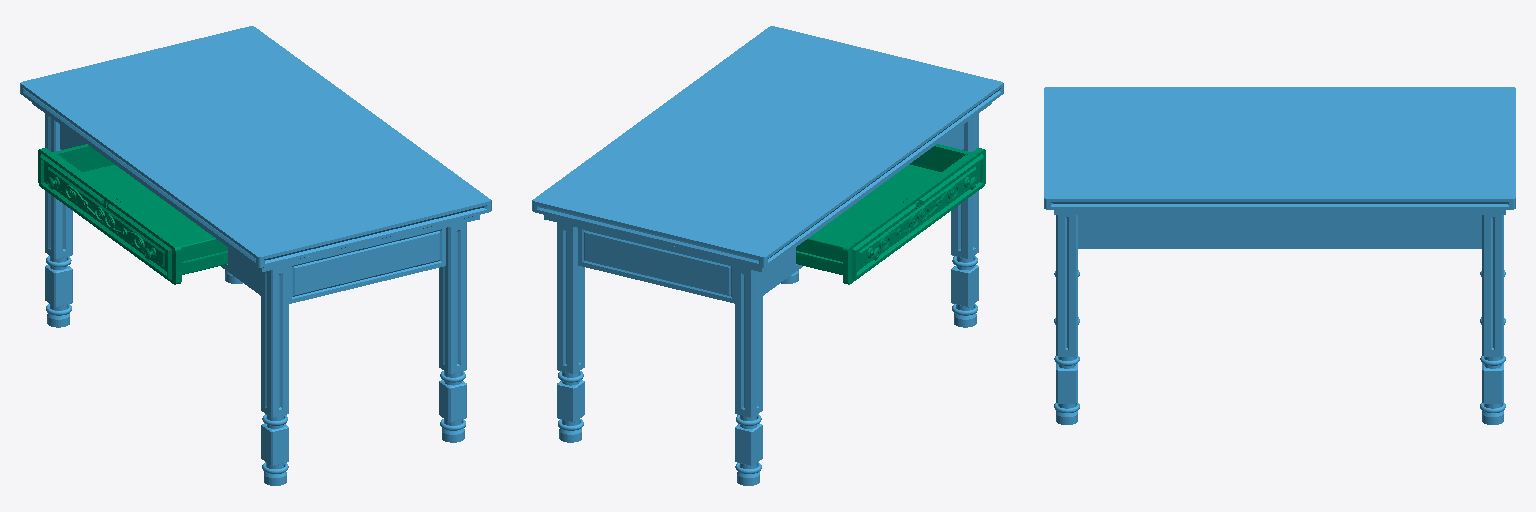
URDF robot description (partnet_7b5b7bfa8580e913e2580b23e60e4674):
<?xml version="1.0" ?>
<robot name="partnet_7b5b7bfa8580e913e2580b23e60e4674">
	<link name="base"/>
	<link name="link_0">
		<visual name="board-33">
			<origin xyz="0 0 0"/>
			<geometry>
				<mesh filename="textured_objs/original-48.obj"/>
			</geometry>
		</visual>
		<visual name="bar-36">
			<origin xyz="0 0 0"/>
			<geometry>
				<mesh filename="textured_objs/original-50.obj"/>
			</geometry>
		</visual>
		<visual name="bar-36">
			<origin xyz="0 0 0"/>
			<geometry>
				<mesh filename="textured_objs/original-57.obj"/>
			</geometry>
		</visual>
		<visual name="bar-37">
			<origin xyz="0 0 0"/>
			<geometry>
				<mesh filename="textured_objs/original-53.obj"/>
			</geometry>
		</visual>
		<visual name="bar-37">
			<origin xyz="0 0 0"/>
			<geometry>
				<mesh filename="textured_objs/original-54.obj"/>
			</geometry>
		</visual>
		<visual name="bar-38">
			<origin xyz="0 0 0"/>
			<geometry>
				<mesh filename="textured_objs/original-51.obj"/>
			</geometry>
		</visual>
		<visual name="bar-38">
			<origin xyz="0 0 0"/>
			<geometry>
				<mesh filename="textured_objs/original-55.obj"/>
			</geometry>
		</visual>
		<visual name="bar-39">
			<origin xyz="0 0 0"/>
			<geometry>
				<mesh filename="textured_objs/original-52.obj"/>
			</geometry>
		</visual>
		<visual name="bar-39">
			<origin xyz="0 0 0"/>
			<geometry>
				<mesh filename="textured_objs/original-56.obj"/>
			</geometry>
		</visual>
		<visual name="leg-8">
			<origin xyz="0 0 0"/>
			<geometry>
				<mesh filename="textured_objs/original-32.obj"/>
			</geometry>
		</visual>
		<visual name="leg-8">
			<origin xyz="0 0 0"/>
			<geometry>
				<mesh filename="textured_objs/original-33.obj"/>
			</geometry>
		</visual>
		<visual name="leg-8">
			<origin xyz="0 0 0"/>
			<geometry>
				<mesh filename="textured_objs/original-34.obj"/>
			</geometry>
		</visual>
		<visual name="leg-8">
			<origin xyz="0 0 0"/>
			<geometry>
				<mesh filename="textured_objs/original-31.obj"/>
			</geometry>
		</visual>
		<visual name="leg-9">
			<origin xyz="0 0 0"/>
			<geometry>
				<mesh filename="textured_objs/original-22.obj"/>
			</geometry>
		</visual>
		<visual name="leg-9">
			<origin xyz="0 0 0"/>
			<geometry>
				<mesh filename="textured_objs/original-23.obj"/>
			</geometry>
		</visual>
		<visual name="leg-9">
			<origin xyz="0 0 0"/>
			<geometry>
				<mesh filename="textured_objs/original-24.obj"/>
			</geometry>
		</visual>
		<visual name="leg-9">
			<origin xyz="0 0 0"/>
			<geometry>
				<mesh filename="textured_objs/original-21.obj"/>
			</geometry>
		</visual>
		<visual name="leg-10">
			<origin xyz="0 0 0"/>
			<geometry>
				<mesh filename="textured_objs/original-27.obj"/>
			</geometry>
		</visual>
		<visual name="leg-10">
			<origin xyz="0 0 0"/>
			<geometry>
				<mesh filename="textured_objs/original-29.obj"/>
			</geometry>
		</visual>
		<visual name="leg-10">
			<origin xyz="0 0 0"/>
			<geometry>
				<mesh filename="textured_objs/original-28.obj"/>
			</geometry>
		</visual>
		<visual name="leg-10">
			<origin xyz="0 0 0"/>
			<geometry>
				<mesh filename="textured_objs/original-26.obj"/>
			</geometry>
		</visual>
		<visual name="leg-11">
			<origin xyz="0 0 0"/>
			<geometry>
				<mesh filename="textured_objs/original-37.obj"/>
			</geometry>
		</visual>
		<visual name="leg-11">
			<origin xyz="0 0 0"/>
			<geometry>
				<mesh filename="textured_objs/original-38.obj"/>
			</geometry>
		</visual>
		<visual name="leg-11">
			<origin xyz="0 0 0"/>
			<geometry>
				<mesh filename="textured_objs/original-39.obj"/>
			</geometry>
		</visual>
		<visual name="leg-11">
			<origin xyz="0 0 0"/>
			<geometry>
				<mesh filename="textured_objs/original-36.obj"/>
			</geometry>
		</visual>
		<visual name="back_panel-16">
			<origin xyz="0 0 0"/>
			<geometry>
				<mesh filename="textured_objs/original-44.obj"/>
			</geometry>
		</visual>
		<visual name="vertical_side_panel-17">
			<origin xyz="0 0 0"/>
			<geometry>
				<mesh filename="textured_objs/original-45.obj"/>
			</geometry>
		</visual>
		<visual name="vertical_side_panel-18">
			<origin xyz="0 0 0"/>
			<geometry>
				<mesh filename="textured_objs/original-46.obj"/>
			</geometry>
		</visual>
		<visual name="vertical_front_panel-19">
			<origin xyz="0 0 0"/>
			<geometry>
				<mesh filename="textured_objs/original-43.obj"/>
			</geometry>
		</visual>
		<visual name="tabletop_connector-34">
			<origin xyz="0 0 0"/>
			<geometry>
				<mesh filename="textured_objs/original-47.obj"/>
			</geometry>
		</visual>
		<visual name="drawer_rails-22">
			<origin xyz="0 0 0"/>
			<geometry>
				<mesh filename="textured_objs/original-41.obj"/>
			</geometry>
		</visual>
		<visual name="drawer_rails-23">
			<origin xyz="0 0 0"/>
			<geometry>
				<mesh filename="textured_objs/original-42.obj"/>
			</geometry>
		</visual>
		<collision>
			<origin xyz="0 0 0"/>
			<geometry>
				<mesh filename="textured_objs/original-48.obj"/>
			</geometry>
		</collision>
		<collision>
			<origin xyz="0 0 0"/>
			<geometry>
				<mesh filename="textured_objs/original-50.obj"/>
			</geometry>
		</collision>
		<collision>
			<origin xyz="0 0 0"/>
			<geometry>
				<mesh filename="textured_objs/original-57.obj"/>
			</geometry>
		</collision>
		<collision>
			<origin xyz="0 0 0"/>
			<geometry>
				<mesh filename="textured_objs/original-53.obj"/>
			</geometry>
		</collision>
		<collision>
			<origin xyz="0 0 0"/>
			<geometry>
				<mesh filename="textured_objs/original-54.obj"/>
			</geometry>
		</collision>
		<collision>
			<origin xyz="0 0 0"/>
			<geometry>
				<mesh filename="textured_objs/original-51.obj"/>
			</geometry>
		</collision>
		<collision>
			<origin xyz="0 0 0"/>
			<geometry>
				<mesh filename="textured_objs/original-55.obj"/>
			</geometry>
		</collision>
		<collision>
			<origin xyz="0 0 0"/>
			<geometry>
				<mesh filename="textured_objs/original-52.obj"/>
			</geometry>
		</collision>
		<collision>
			<origin xyz="0 0 0"/>
			<geometry>
				<mesh filename="textured_objs/original-56.obj"/>
			</geometry>
		</collision>
		<collision>
			<origin xyz="0 0 0"/>
			<geometry>
				<mesh filename="textured_objs/original-32.obj"/>
			</geometry>
		</collision>
		<collision>
			<origin xyz="0 0 0"/>
			<geometry>
				<mesh filename="textured_objs/original-33.obj"/>
			</geometry>
		</collision>
		<collision>
			<origin xyz="0 0 0"/>
			<geometry>
				<mesh filename="textured_objs/original-34.obj"/>
			</geometry>
		</collision>
		<collision>
			<origin xyz="0 0 0"/>
			<geometry>
				<mesh filename="textured_objs/original-31.obj"/>
			</geometry>
		</collision>
		<collision>
			<origin xyz="0 0 0"/>
			<geometry>
				<mesh filename="textured_objs/original-22.obj"/>
			</geometry>
		</collision>
		<collision>
			<origin xyz="0 0 0"/>
			<geometry>
				<mesh filename="textured_objs/original-23.obj"/>
			</geometry>
		</collision>
		<collision>
			<origin xyz="0 0 0"/>
			<geometry>
				<mesh filename="textured_objs/original-24.obj"/>
			</geometry>
		</collision>
		<collision>
			<origin xyz="0 0 0"/>
			<geometry>
				<mesh filename="textured_objs/original-21.obj"/>
			</geometry>
		</collision>
		<collision>
			<origin xyz="0 0 0"/>
			<geometry>
				<mesh filename="textured_objs/original-27.obj"/>
			</geometry>
		</collision>
		<collision>
			<origin xyz="0 0 0"/>
			<geometry>
				<mesh filename="textured_objs/original-29.obj"/>
			</geometry>
		</collision>
		<collision>
			<origin xyz="0 0 0"/>
			<geometry>
				<mesh filename="textured_objs/original-28.obj"/>
			</geometry>
		</collision>
		<collision>
			<origin xyz="0 0 0"/>
			<geometry>
				<mesh filename="textured_objs/original-26.obj"/>
			</geometry>
		</collision>
		<collision>
			<origin xyz="0 0 0"/>
			<geometry>
				<mesh filename="textured_objs/original-37.obj"/>
			</geometry>
		</collision>
		<collision>
			<origin xyz="0 0 0"/>
			<geometry>
				<mesh filename="textured_objs/original-38.obj"/>
			</geometry>
		</collision>
		<collision>
			<origin xyz="0 0 0"/>
			<geometry>
				<mesh filename="textured_objs/original-39.obj"/>
			</geometry>
		</collision>
		<collision>
			<origin xyz="0 0 0"/>
			<geometry>
				<mesh filename="textured_objs/original-36.obj"/>
			</geometry>
		</collision>
		<collision>
			<origin xyz="0 0 0"/>
			<geometry>
				<mesh filename="textured_objs/original-44.obj"/>
			</geometry>
		</collision>
		<collision>
			<origin xyz="0 0 0"/>
			<geometry>
				<mesh filename="textured_objs/original-45.obj"/>
			</geometry>
		</collision>
		<collision>
			<origin xyz="0 0 0"/>
			<geometry>
				<mesh filename="textured_objs/original-46.obj"/>
			</geometry>
		</collision>
		<collision>
			<origin xyz="0 0 0"/>
			<geometry>
				<mesh filename="textured_objs/original-43.obj"/>
			</geometry>
		</collision>
		<collision>
			<origin xyz="0 0 0"/>
			<geometry>
				<mesh filename="textured_objs/original-47.obj"/>
			</geometry>
		</collision>
		<collision>
			<origin xyz="0 0 0"/>
			<geometry>
				<mesh filename="textured_objs/original-41.obj"/>
			</geometry>
		</collision>
		<collision>
			<origin xyz="0 0 0"/>
			<geometry>
				<mesh filename="textured_objs/original-42.obj"/>
			</geometry>
		</collision>
	</link>
	<joint name="joint_0" type="fixed">
		<origin rpy="1.570796326794897 0 -1.570796326794897" xyz="0 0 0"/>
		<child link="link_0"/>
		<parent link="base"/>
	</joint>
	<link name="link_1">
		<visual name="handle-25">
			<origin xyz="0 0 0"/>
			<geometry>
				<mesh filename="textured_objs/original-4.obj"/>
			</geometry>
		</visual>
		<visual name="handle-26">
			<origin xyz="0 0 0"/>
			<geometry>
				<mesh filename="textured_objs/original-3.obj"/>
			</geometry>
		</visual>
		<visual name="drawer_front-27">
			<origin xyz="0 0 0"/>
			<geometry>
				<mesh filename="textured_objs/original-18.obj"/>
			</geometry>
		</visual>
		<visual name="drawer_front-27">
			<origin xyz="0 0 0"/>
			<geometry>
				<mesh filename="textured_objs/original-5.obj"/>
			</geometry>
		</visual>
		<visual name="drawer_front-27">
			<origin xyz="0 0 0"/>
			<geometry>
				<mesh filename="textured_objs/original-11.obj"/>
			</geometry>
		</visual>
		<visual name="drawer_front-27">
			<origin xyz="0 0 0"/>
			<geometry>
				<mesh filename="textured_objs/original-7.obj"/>
			</geometry>
		</visual>
		<visual name="drawer_front-27">
			<origin xyz="0 0 0"/>
			<geometry>
				<mesh filename="textured_objs/original-9.obj"/>
			</geometry>
		</visual>
		<visual name="drawer_front-27">
			<origin xyz="0 0 0"/>
			<geometry>
				<mesh filename="textured_objs/original-12.obj"/>
			</geometry>
		</visual>
		<visual name="drawer_front-27">
			<origin xyz="0 0 0"/>
			<geometry>
				<mesh filename="textured_objs/original-8.obj"/>
			</geometry>
		</visual>
		<visual name="drawer_front-27">
			<origin xyz="0 0 0"/>
			<geometry>
				<mesh filename="textured_objs/original-13.obj"/>
			</geometry>
		</visual>
		<visual name="drawer_front-27">
			<origin xyz="0 0 0"/>
			<geometry>
				<mesh filename="textured_objs/original-10.obj"/>
			</geometry>
		</visual>
		<visual name="drawer_front-27">
			<origin xyz="0 0 0"/>
			<geometry>
				<mesh filename="textured_objs/original-6.obj"/>
			</geometry>
		</visual>
		<visual name="drawer_side-28">
			<origin xyz="0 0 0"/>
			<geometry>
				<mesh filename="textured_objs/original-15.obj"/>
			</geometry>
		</visual>
		<visual name="drawer_side-29">
			<origin xyz="0 0 0"/>
			<geometry>
				<mesh filename="textured_objs/original-16.obj"/>
			</geometry>
		</visual>
		<visual name="drawer_back-30">
			<origin xyz="0 0 0"/>
			<geometry>
				<mesh filename="textured_objs/original-14.obj"/>
			</geometry>
		</visual>
		<visual name="drawer_bottom-31">
			<origin xyz="0 0 0"/>
			<geometry>
				<mesh filename="textured_objs/original-17.obj"/>
			</geometry>
		</visual>
		<collision>
			<origin xyz="0 0 0"/>
			<geometry>
				<mesh filename="textured_objs/original-4.obj"/>
			</geometry>
		</collision>
		<collision>
			<origin xyz="0 0 0"/>
			<geometry>
				<mesh filename="textured_objs/original-3.obj"/>
			</geometry>
		</collision>
		<collision>
			<origin xyz="0 0 0"/>
			<geometry>
				<mesh filename="textured_objs/original-18.obj"/>
			</geometry>
		</collision>
		<collision>
			<origin xyz="0 0 0"/>
			<geometry>
				<mesh filename="textured_objs/original-5.obj"/>
			</geometry>
		</collision>
		<collision>
			<origin xyz="0 0 0"/>
			<geometry>
				<mesh filename="textured_objs/original-11.obj"/>
			</geometry>
		</collision>
		<collision>
			<origin xyz="0 0 0"/>
			<geometry>
				<mesh filename="textured_objs/original-7.obj"/>
			</geometry>
		</collision>
		<collision>
			<origin xyz="0 0 0"/>
			<geometry>
				<mesh filename="textured_objs/original-9.obj"/>
			</geometry>
		</collision>
		<collision>
			<origin xyz="0 0 0"/>
			<geometry>
				<mesh filename="textured_objs/original-12.obj"/>
			</geometry>
		</collision>
		<collision>
			<origin xyz="0 0 0"/>
			<geometry>
				<mesh filename="textured_objs/original-8.obj"/>
			</geometry>
		</collision>
		<collision>
			<origin xyz="0 0 0"/>
			<geometry>
				<mesh filename="textured_objs/original-13.obj"/>
			</geometry>
		</collision>
		<collision>
			<origin xyz="0 0 0"/>
			<geometry>
				<mesh filename="textured_objs/original-10.obj"/>
			</geometry>
		</collision>
		<collision>
			<origin xyz="0 0 0"/>
			<geometry>
				<mesh filename="textured_objs/original-6.obj"/>
			</geometry>
		</collision>
		<collision>
			<origin xyz="0 0 0"/>
			<geometry>
				<mesh filename="textured_objs/original-15.obj"/>
			</geometry>
		</collision>
		<collision>
			<origin xyz="0 0 0"/>
			<geometry>
				<mesh filename="textured_objs/original-16.obj"/>
			</geometry>
		</collision>
		<collision>
			<origin xyz="0 0 0"/>
			<geometry>
				<mesh filename="textured_objs/original-14.obj"/>
			</geometry>
		</collision>
		<collision>
			<origin xyz="0 0 0"/>
			<geometry>
				<mesh filename="textured_objs/original-17.obj"/>
			</geometry>
		</collision>
	</link>
	<joint name="joint_1" type="prismatic">
		<origin xyz="0 0 0"/>
		<axis xyz="0 0 1"/>
		<child link="link_1"/>
		<parent link="link_0"/>
		<limit lower="-0.18799999999999994" upper="0.2599999999999998"/>
	</joint>
</robot>

--- Facts derived from the render (not from the file) ---
3 views of the same robot in one strip: view 1: azimuth 30°, elevation 25°; view 2: azimuth 150°, elevation 25°; view 3: azimuth 270°, elevation 25° (orthographic).
Robot: partnet_7b5b7bfa8580e913e2580b23e60e4674 — 3 links, 2 joints (1 prismatic, 1 fixed); root link base; default pose: every joint at zero.
Links seen in each view (by area): view 1: link_0, link_1; view 2: link_0, link_1; view 3: link_0.
Boxes of the visible links, <box> form: link_0: <box>20,26,491,485</box>; link_1: <box>38,144,227,284</box>; link_0: <box>532,26,1003,485</box>; link_1: <box>796,144,985,284</box>; link_0: <box>1044,87,1515,424</box>.
Bounding box of the posed robot: 0.9691 × 1.46 × 0.8036 m (x, y, z).
48 mesh visuals loaded from 48 distinct referenced files (48 OBJ).